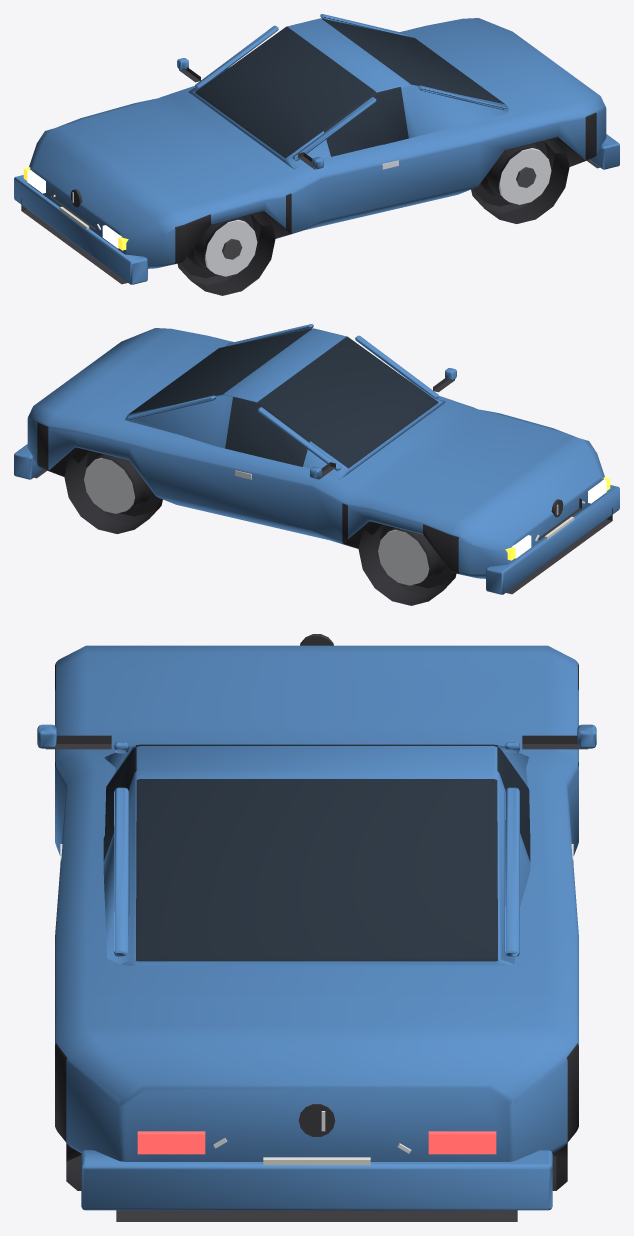
The model's file is car_poisson.glb.
The picture shows the model from 3 angles, top to bottom: view 1: azimuth 30°, elevation 25°; view 2: azimuth 150°, elevation 25°; view 3: azimuth 270°, elevation 25°; orthographic projection. The views are drawn at different scales.
Bounding box in the file's own units: 1.9 × 0.5619 × 0.9371.
